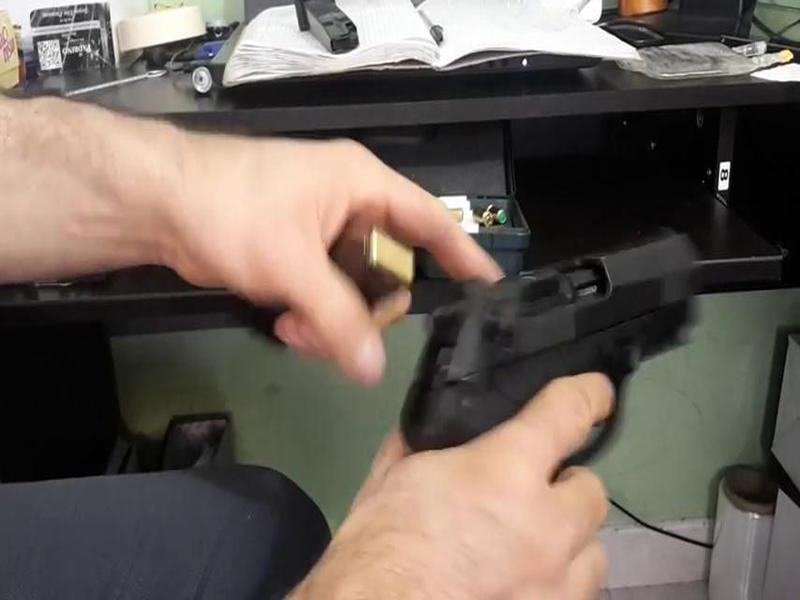Pistola: (392, 209, 716, 484)
